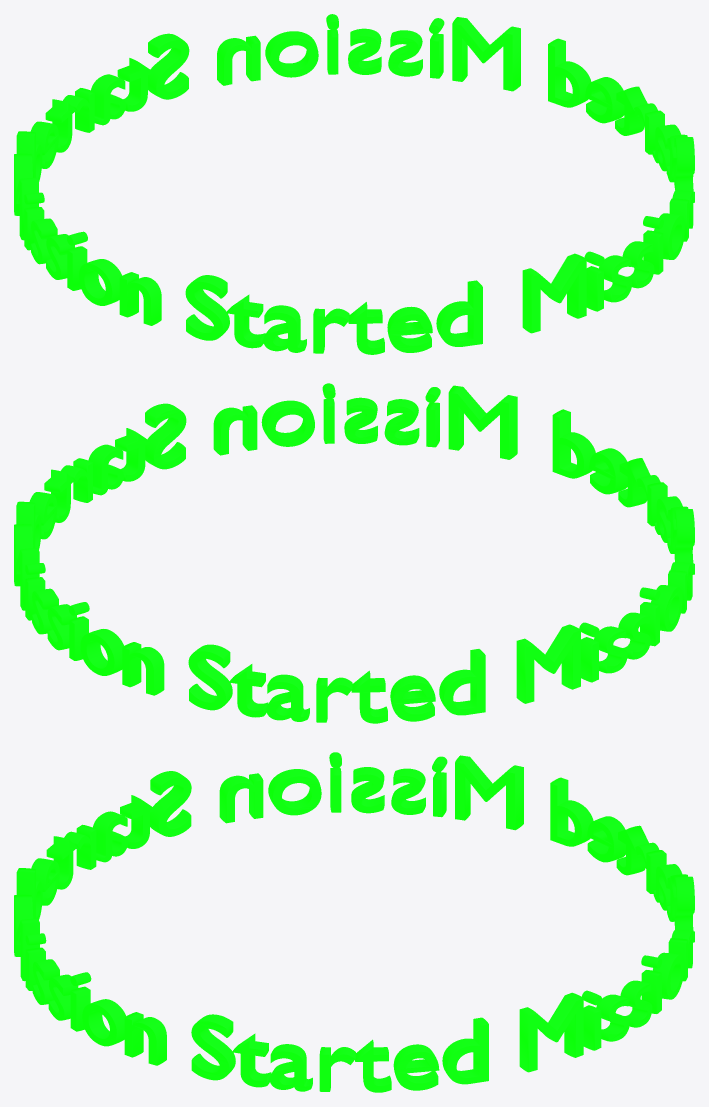
Rendered from MissionTableText.gltf.
3 views of the same model, one above another, from view 1: azimuth 30°, elevation 25°; view 2: azimuth 150°, elevation 25°; view 3: azimuth 270°, elevation 25° (orthographic).
Parts seen in each view (by area): view 1: Text.001; view 2: Text.001; view 3: Text.001.
Part boxes in pixels (bbox=[...]): Text.001: bbox=[14, 14, 694, 354]; Text.001: bbox=[14, 383, 694, 723]; Text.001: bbox=[14, 752, 694, 1092].
Size of the model in its own units: 1.69 by 0.1614 by 1.69.
